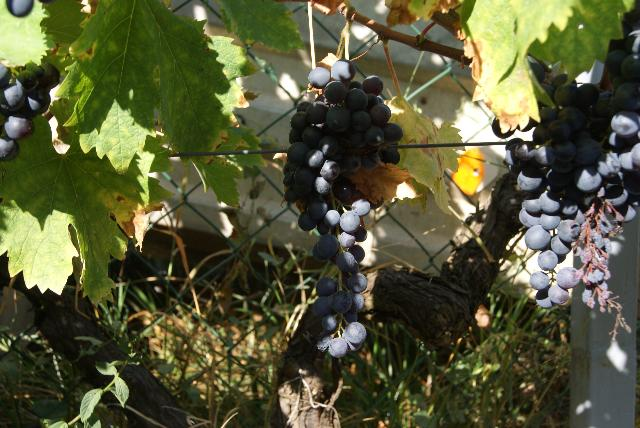grapes: (282, 59, 404, 358), (505, 75, 621, 309), (588, 0, 640, 221)
